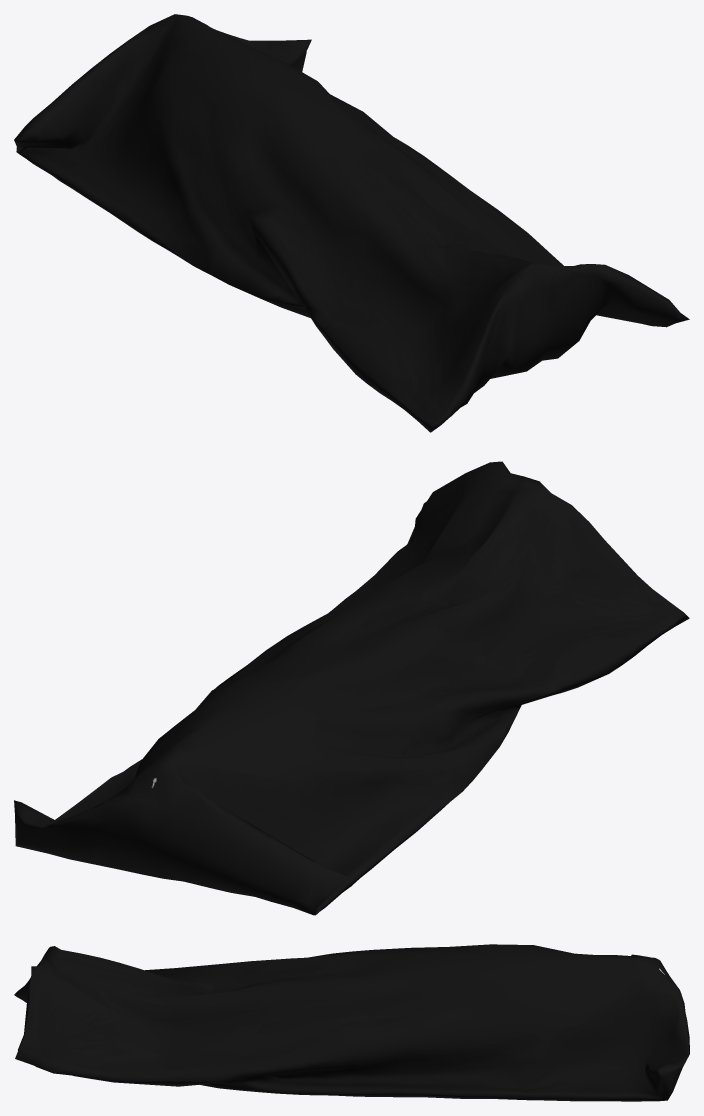
The model's file is body_bag.glb.
3 renders of one model, top to bottom at view 1: azimuth 30°, elevation 25°; view 2: azimuth 150°, elevation 25°; view 3: azimuth 270°, elevation 25°, orthographic. The views are drawn at different scales.
Parts seen in each view (by area): view 1: SM_Bodybag_1_LOD0; view 2: SM_Bodybag_1_LOD0; view 3: SM_Bodybag_1_LOD0.
Boxes of the visible parts, bbox=[...] form: SM_Bodybag_1_LOD0: bbox=[14, 14, 689, 432]; SM_Bodybag_1_LOD0: bbox=[14, 461, 689, 915]; SM_Bodybag_1_LOD0: bbox=[14, 944, 689, 1101].
Size of the model in its own units: 0.8794 by 0.3325 by 1.99.
1 material, 1 textured.
